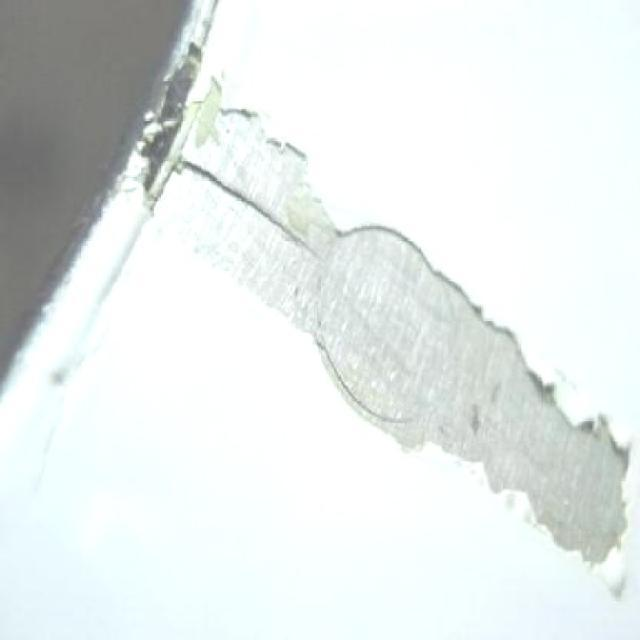crack: (251, 202, 319, 256), (176, 160, 247, 200)
